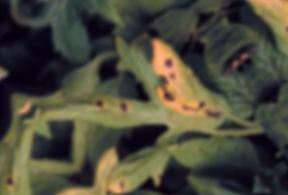Tomato leaf bacterial spot: (40, 17, 239, 195)
